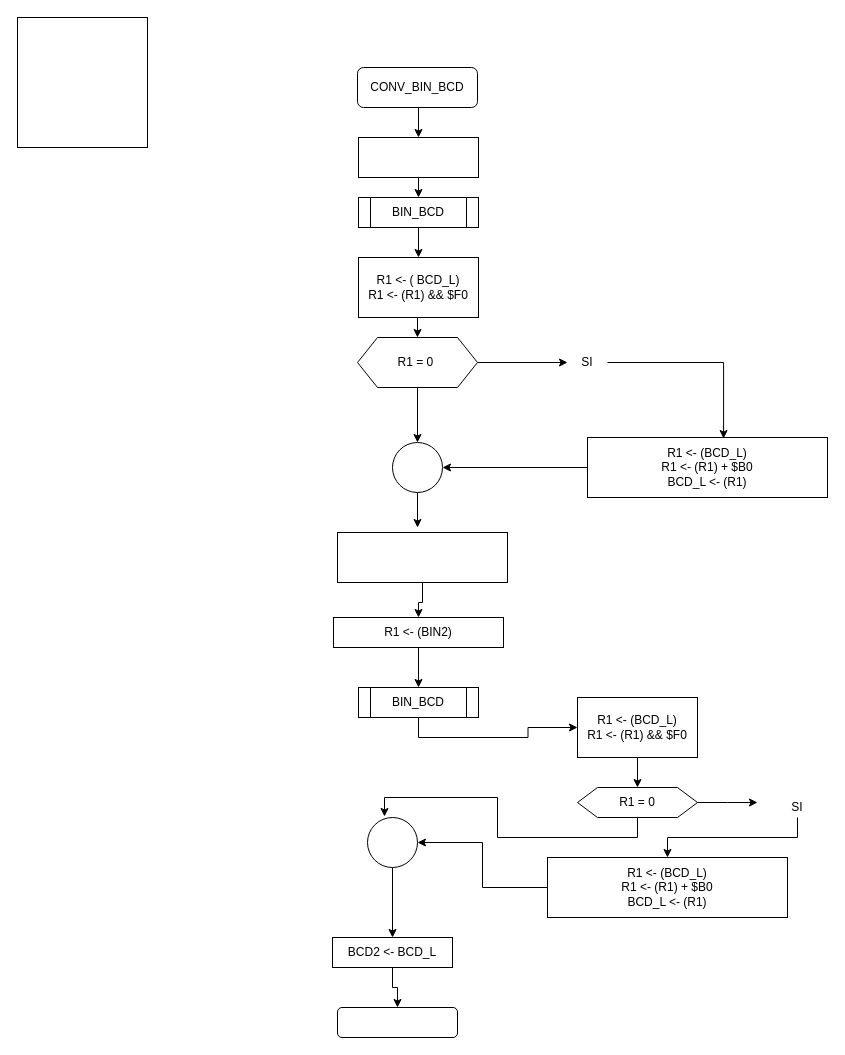
The diagram is 845 pixels wide and 1055 high, and some of its shapes have lost their labels. Each missing label, with the centre of its shape:
BCD1 <- (BCD_L): the point at 422,557
C - carry K. - Y J - X R1 - A R2 - B RR1 - D: the point at 82,82
R1 <- (BIN1): the point at 418,157
RETURN: the point at 397,1022
